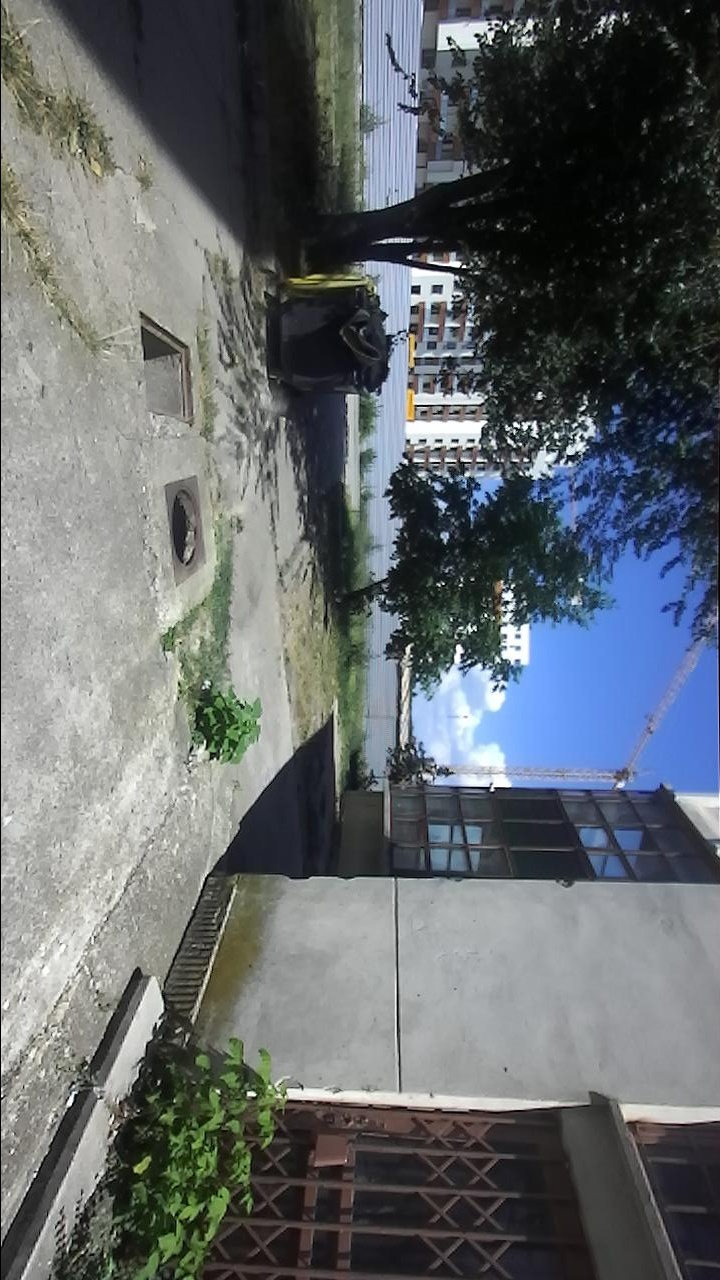drain: (132, 308, 199, 430), (166, 483, 203, 572)
